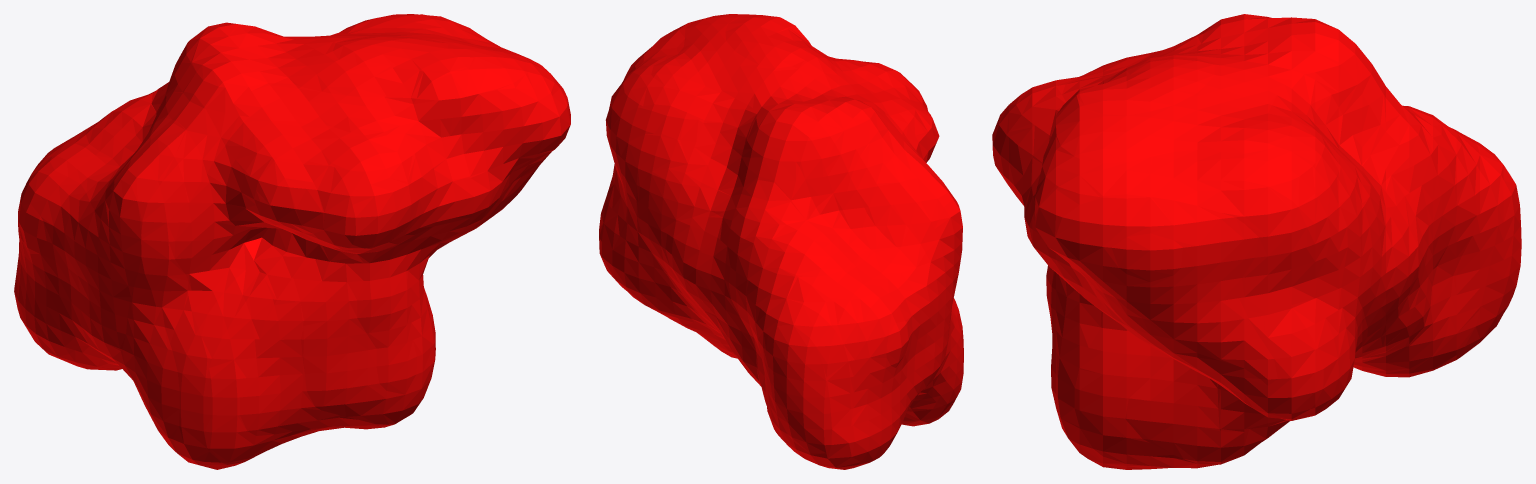
Rendered from nrdR_coarse.dae.
The picture shows the model from 3 angles, left to right: view 1: azimuth 30°, elevation 25°; view 2: azimuth 150°, elevation 25°; view 3: azimuth 270°, elevation 25°; orthographic projection. The views are drawn at different scales.
Visible parts, largest first — view 1: nrdR; view 2: nrdR; view 3: nrdR.
Part boxes in pixels (<box>): nrdR: <box>14,14,570,469</box>; nrdR: <box>599,14,963,469</box>; nrdR: <box>992,14,1521,469</box>.
Bounding box in the file's own units: 45.21 × 39.66 × 43.68.
